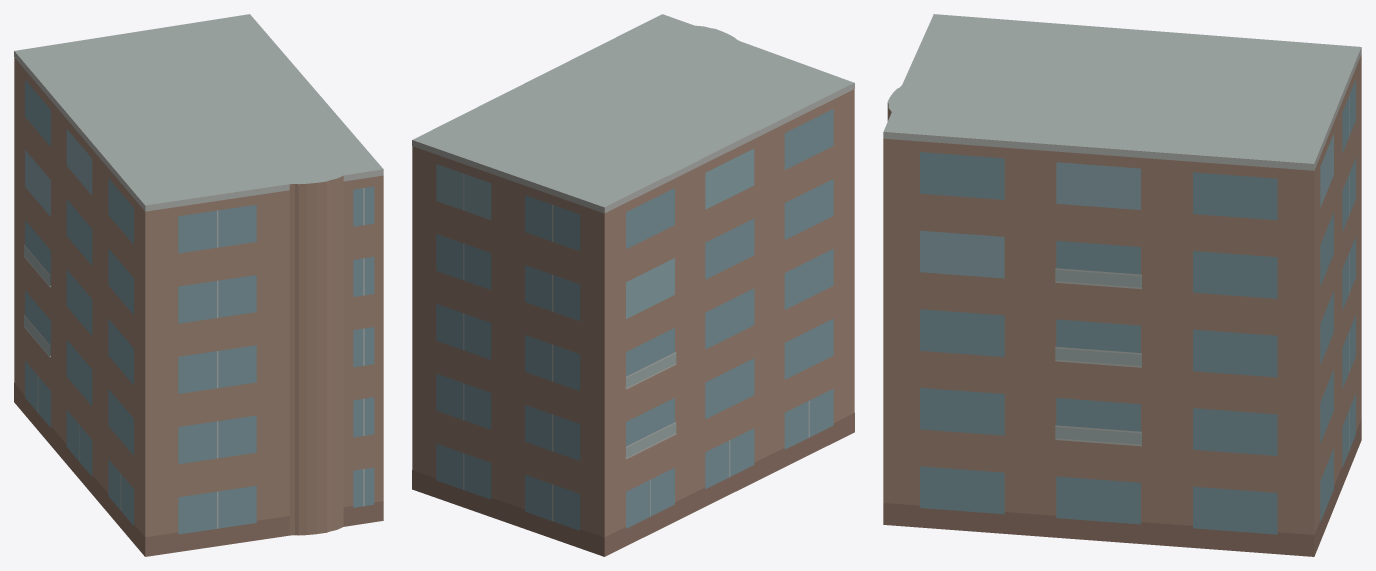
The model's file is survey-upis-32884246.glb.
The picture shows the model from 3 angles, left to right: view 1: azimuth 30°, elevation 25°; view 2: azimuth 150°, elevation 25°; view 3: azimuth 270°, elevation 25°; orthographic projection. The views are drawn at different scales.
Parts seen in each view (by area): view 1: survey-upis-32884246.tmp; view 2: survey-upis-32884246.tmp; view 3: survey-upis-32884246.tmp.
Boxes of the visible parts, bbox=[...] form: survey-upis-32884246.tmp: bbox=[14, 14, 383, 556]; survey-upis-32884246.tmp: bbox=[412, 14, 854, 556]; survey-upis-32884246.tmp: bbox=[883, 14, 1361, 556].
Bounding box in the file's own units: 11.55 × 14.1 × 15.57.
